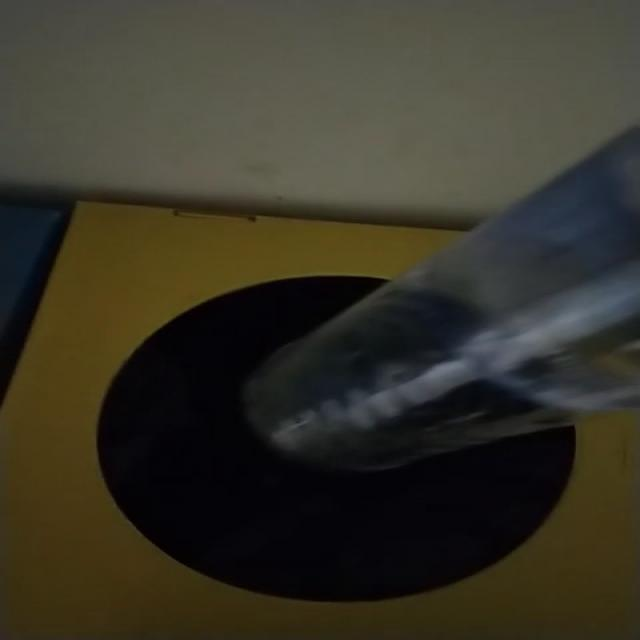plastic: (244, 129, 639, 471)
